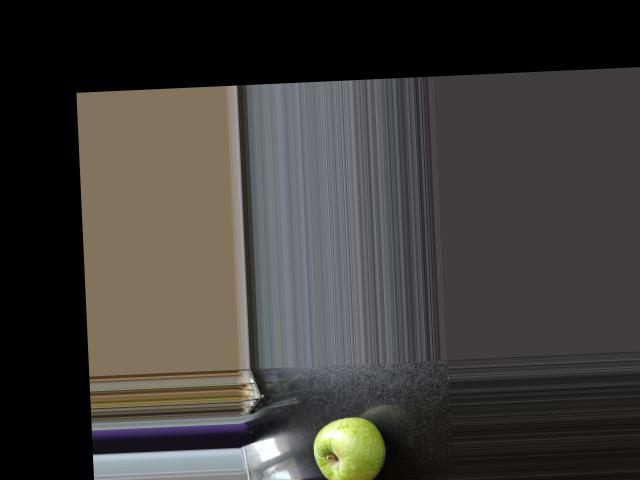apple: (308, 411, 391, 480)
